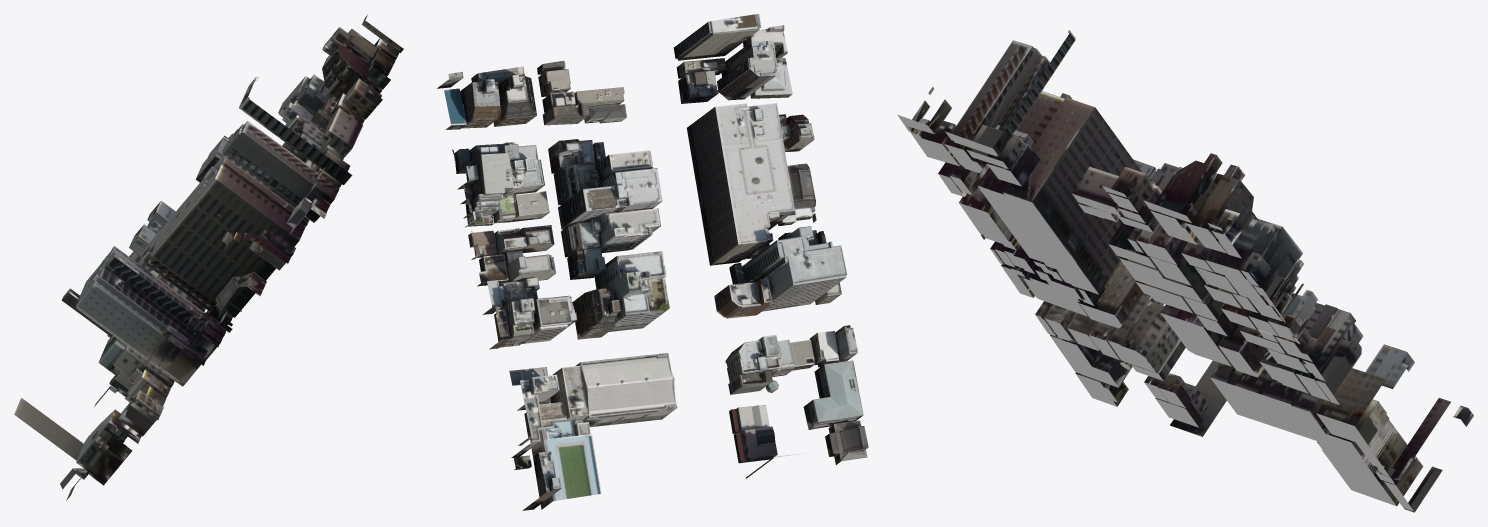
The model's file is 39534_bldg_Building.glb.
The picture shows the model from 3 angles, left to right: view 1: azimuth 30°, elevation 25°; view 2: azimuth 150°, elevation 25°; view 3: azimuth 270°, elevation 25°; orthographic projection. The views are drawn at different scales.
Bounding box in the file's own units: 153 × 149 × 170.
4 materials, 3 textured.
